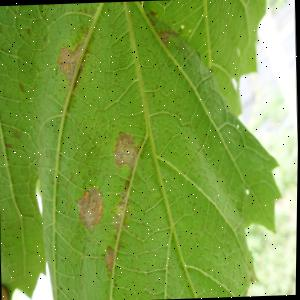Folha: (0, 0, 287, 300)
Fungo: (73, 183, 105, 232), (55, 40, 86, 88), (111, 128, 140, 170), (109, 178, 132, 230), (153, 23, 182, 48), (103, 244, 115, 272), (17, 82, 24, 92), (148, 8, 156, 16), (83, 188, 89, 198)
